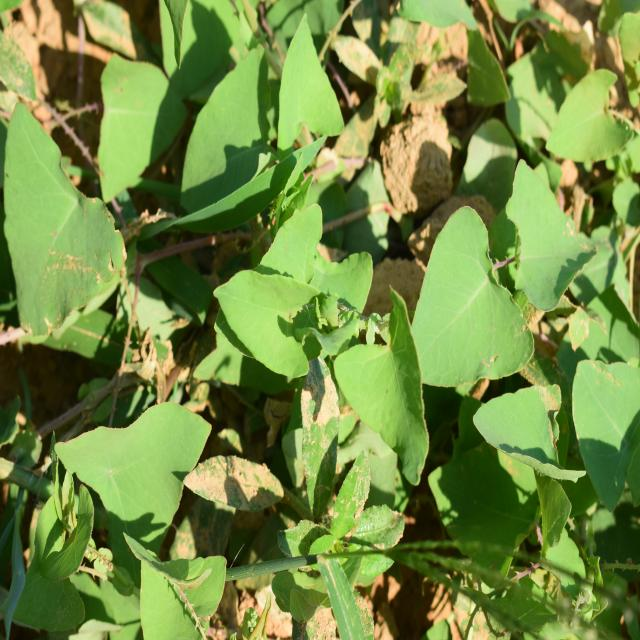Asiatic_Smartweed: (224, 212, 454, 496), (438, 170, 627, 510), (103, 30, 338, 208), (0, 113, 151, 314), (66, 395, 214, 555)
